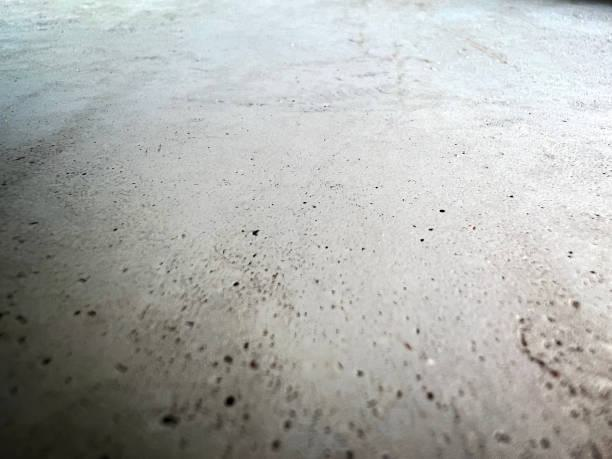Spalling: (1, 207, 612, 459)
